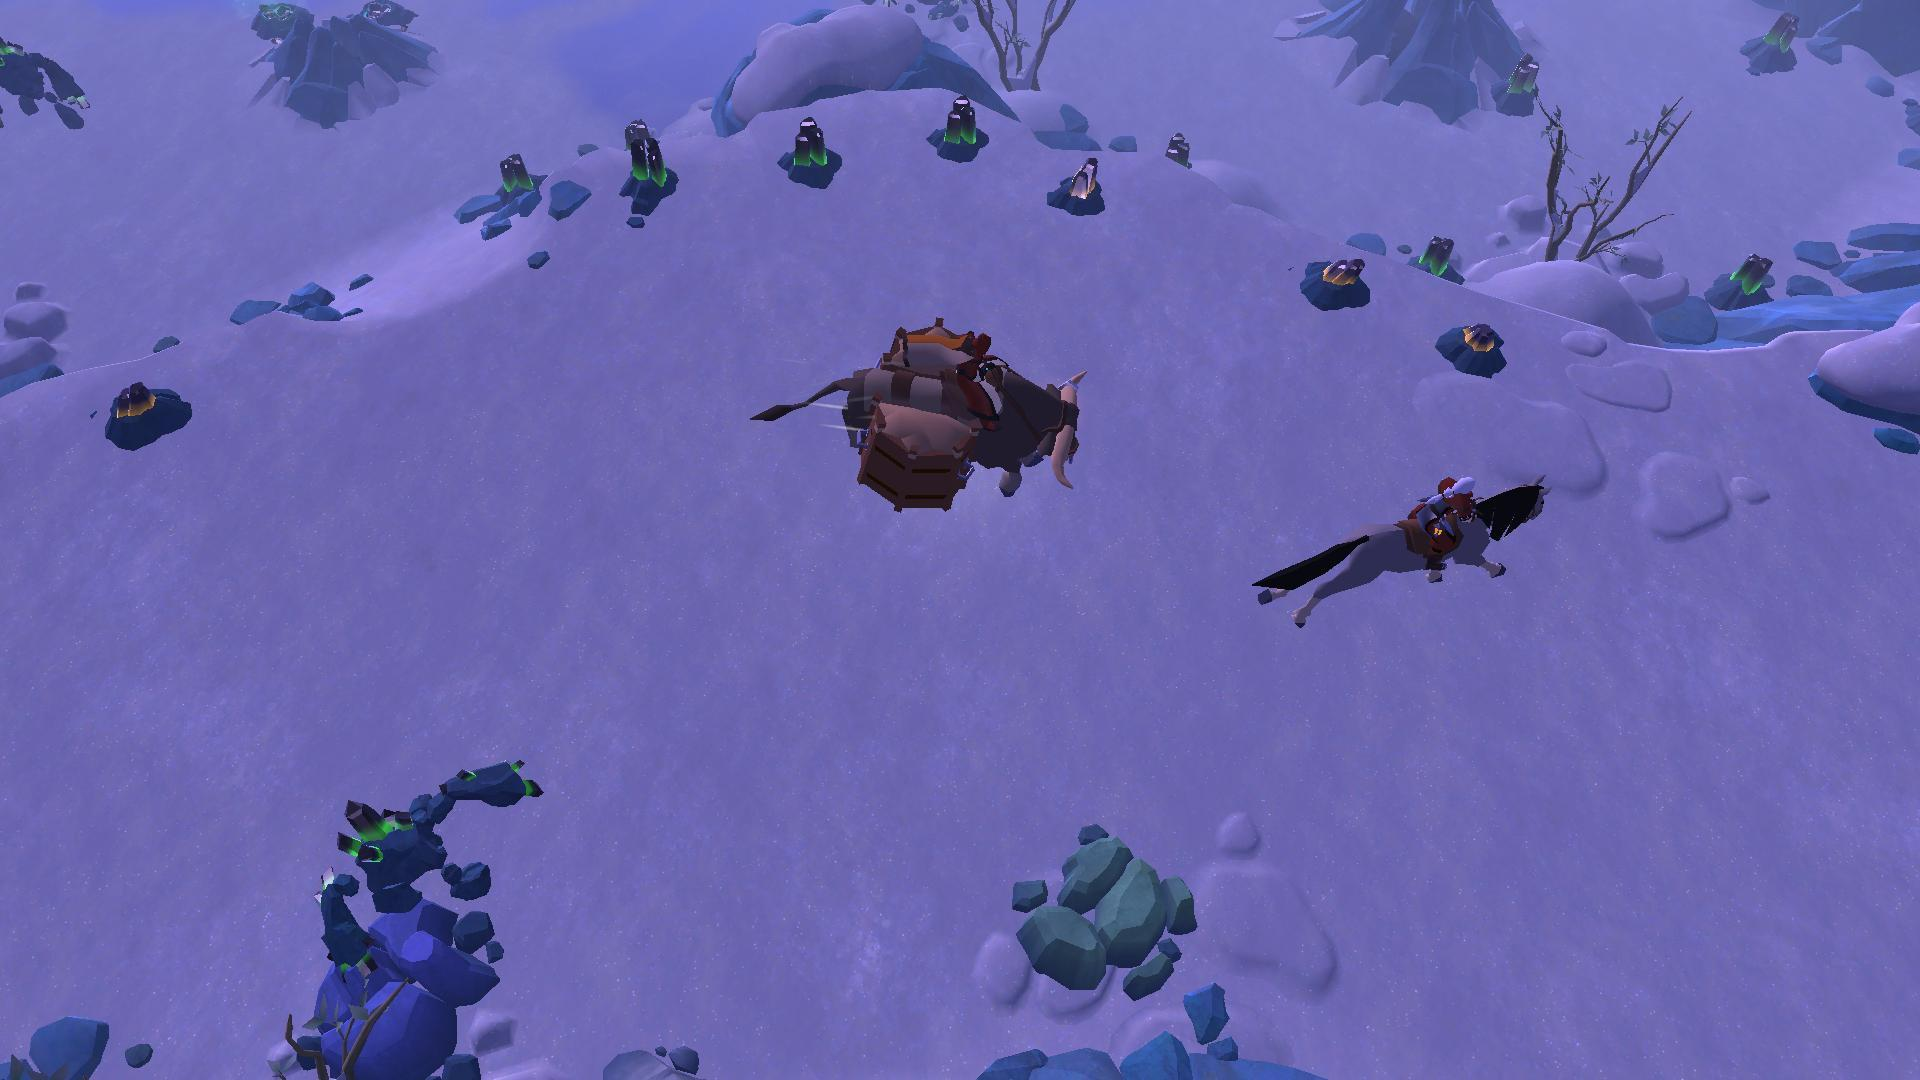ore_t3: (618, 131, 673, 196), (787, 113, 833, 182), (939, 87, 978, 161), (488, 152, 538, 207), (1725, 251, 1774, 301), (1759, 12, 1800, 59), (1419, 231, 1460, 276), (1505, 57, 1540, 103)
rock_t3: (1006, 820, 1197, 1000)
rock_t4: (298, 915, 496, 1076)
